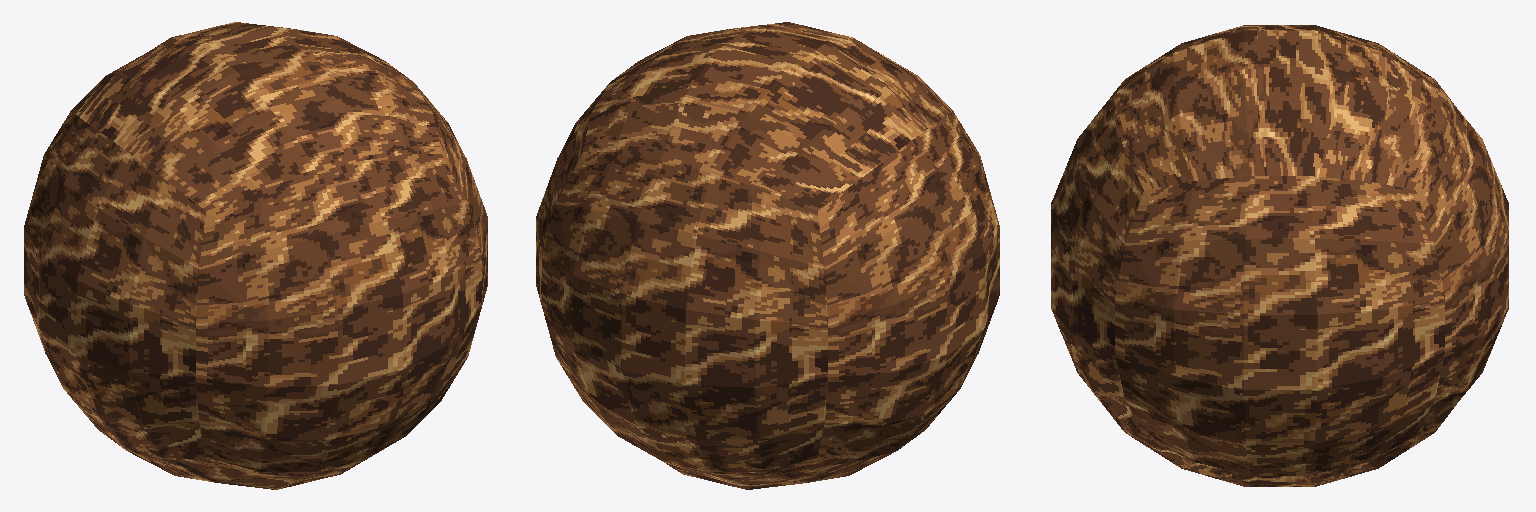
3 views of the same model, side by side, from view 1: azimuth 30°, elevation 25°; view 2: azimuth 150°, elevation 25°; view 3: azimuth 270°, elevation 25° (orthographic).
Visible parts, largest first — view 1: 300.018; view 2: 300.018; view 3: 300.018.
Part boxes in pixels (x1,y1,x2,y2): 300.018: (24, 22, 487, 489); 300.018: (536, 22, 999, 489); 300.018: (1051, 25, 1508, 486).
Size of the model in its own units: 3.36 by 3.36 by 3.36.
1 materials, 1 textured.